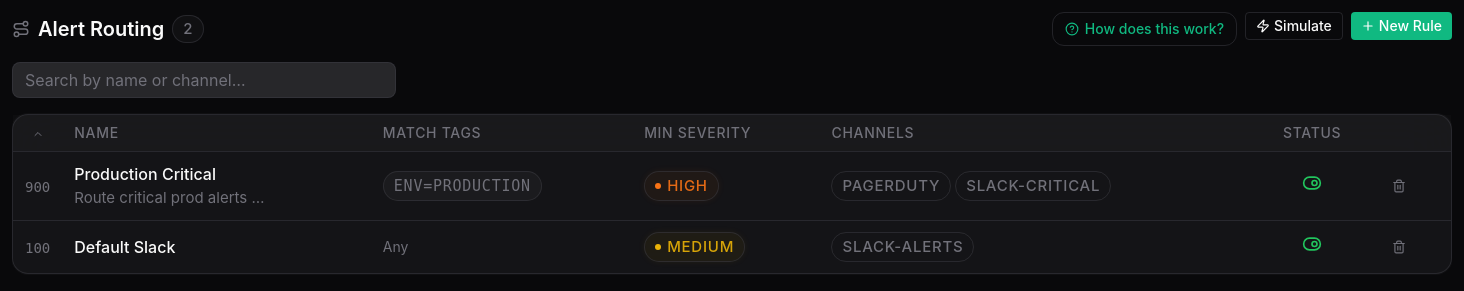
Test: AlertRoutingPage › filters by search term
Step 1. Type "Production" into the field with placeholder "Search by name or channel…" → {"x": 204, "y": 80}, box [12,62,396,98]
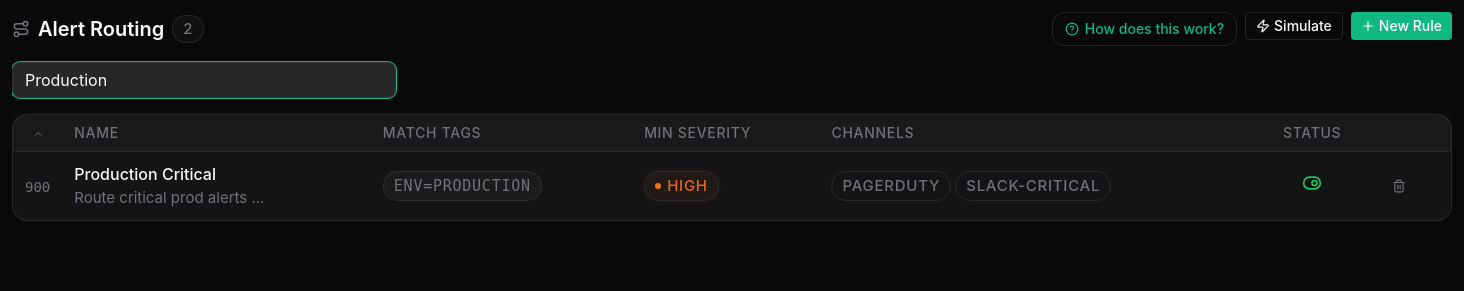
Expected: the text "Production Critical" is shown, [74,164,216,184]
Result: the text "Default Slack" is gone
